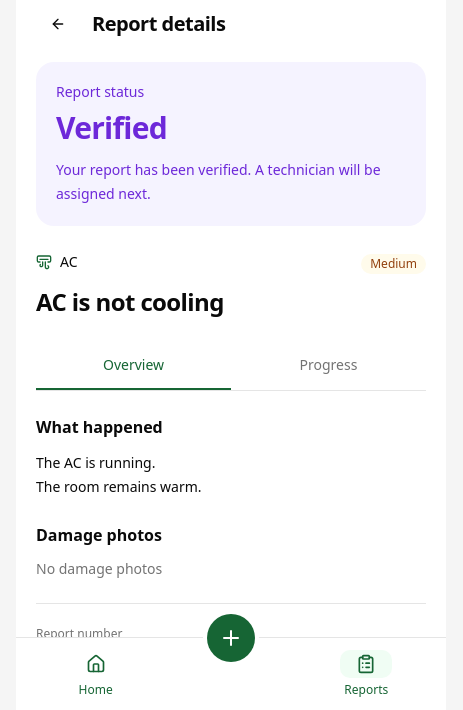
Scenario: loads a direct VERIFIED link with resident-safe details
Expected: the text "Verified" is shown, x1=56 y1=107 x2=167 y2=148
Expected: the text "RPT-0000000001" is shown, x1=36 y1=650 x2=145 y2=669
Click the tab "Progress".
click(328, 366)  # box x1=231 y1=342 x2=426 y2=390
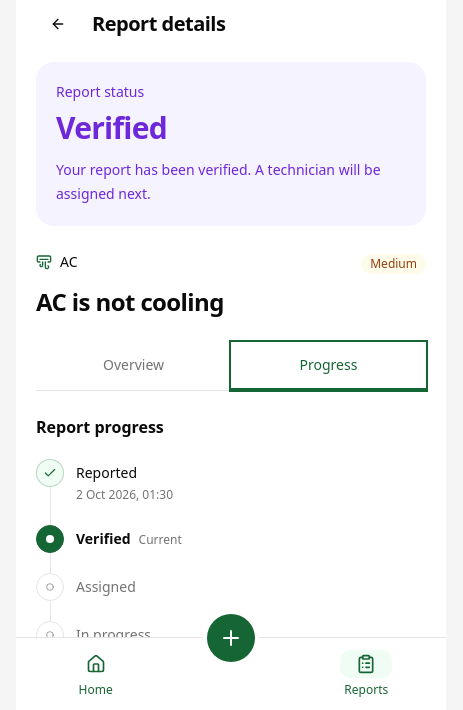
Result: the number of list items is 6
